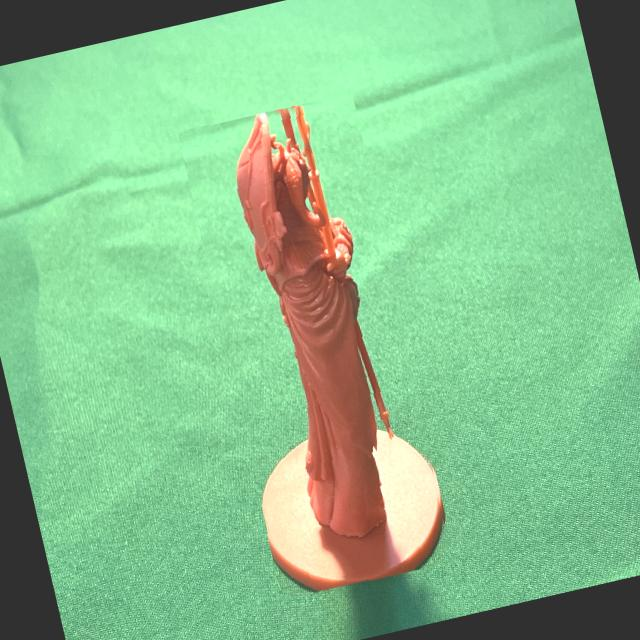amon: (175, 92, 458, 600)
